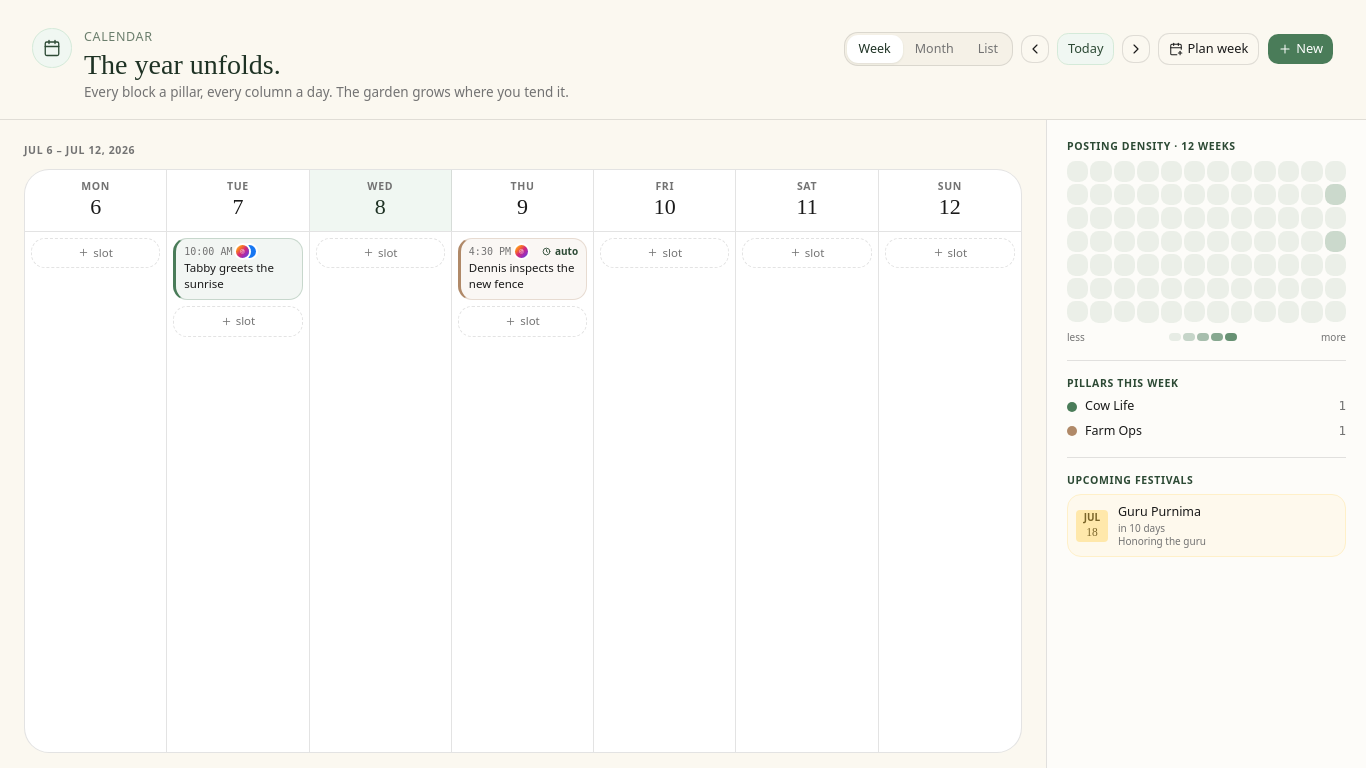
Test: CalendarPage › opens the plan dialog from the Plan week button
Expected: the text "Tabby greets the sunrise" is shown, left=184, top=260, right=274, bottom=291
Click the button "Plan week" at (1209, 49), box left=1158, top=33, right=1259, bottom=65
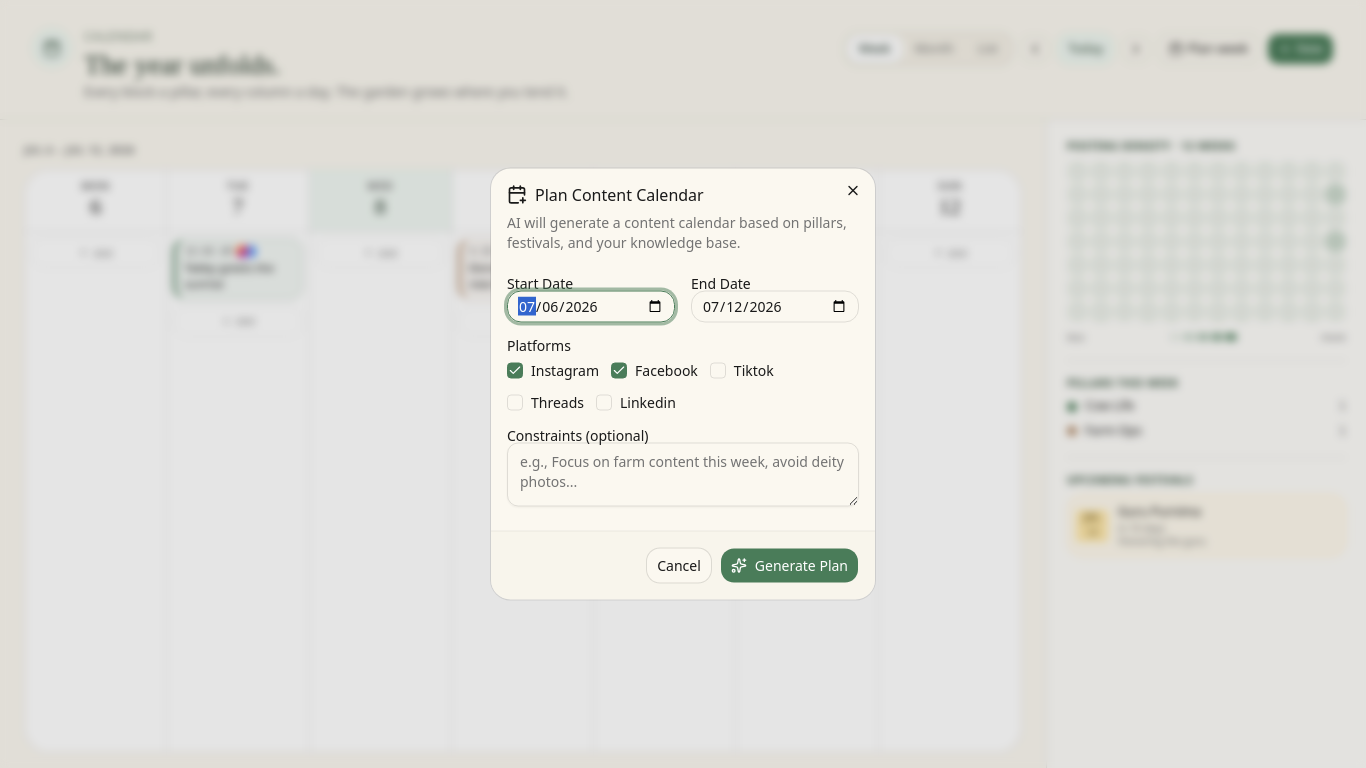
Result: the heading "Plan Content Calendar" is shown at left=507, top=184, right=704, bottom=206
